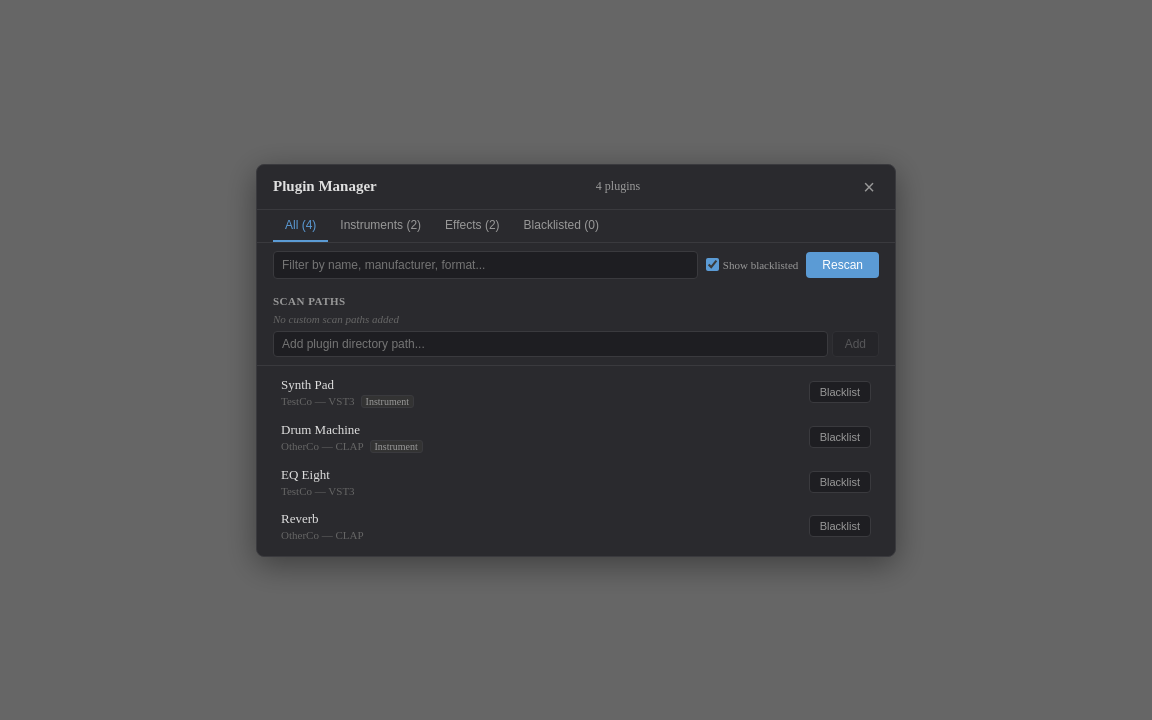
Test case: PluginManagerDialog › scanning › shows Scanning... text while loading
Expected: the text "Synth Pad" is shown, [281, 376, 334, 392]
Click the button "Rescan": (843, 264) [806, 252, 879, 278]
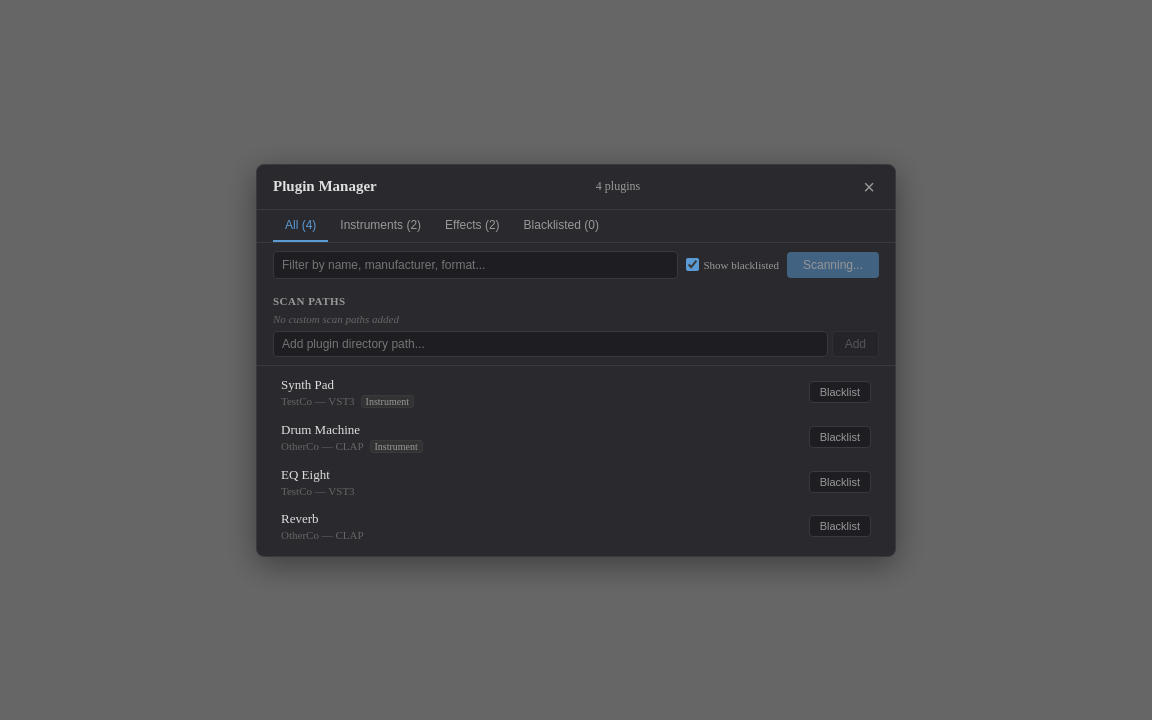
Now the button "Scanning..." is shown, box [787, 252, 879, 278]
